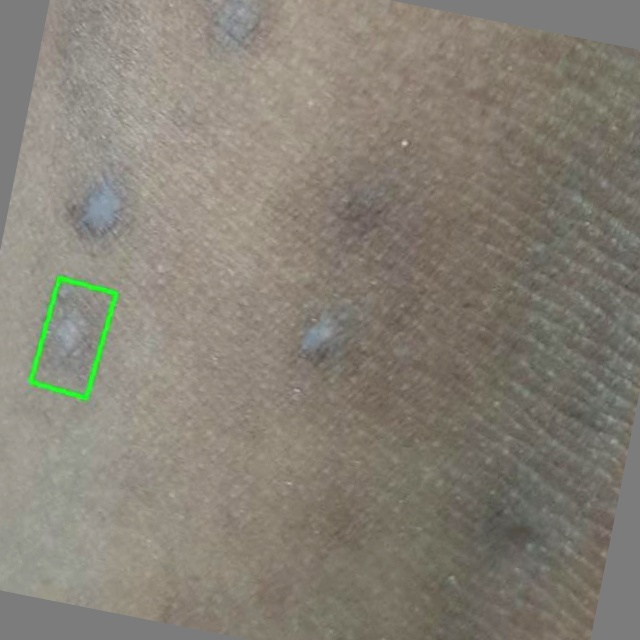Scabies: (29, 277, 115, 398)
